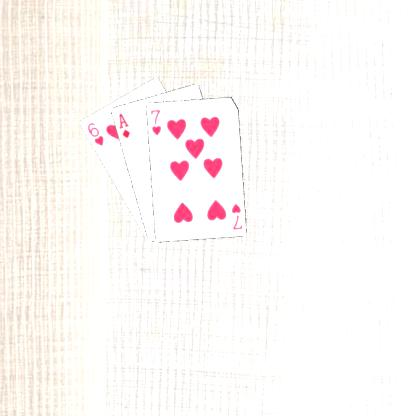6H: (84, 120, 105, 147)
7H: (228, 200, 244, 230), (148, 107, 162, 136)
AD: (116, 110, 131, 140)
